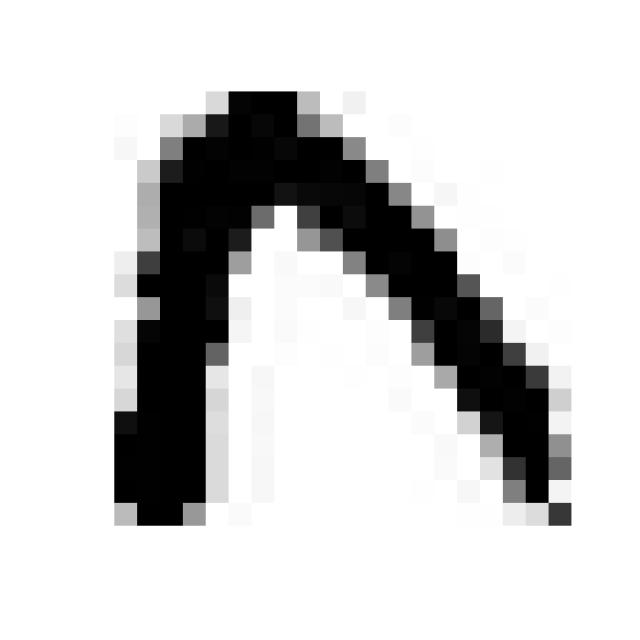8 -eight-: (82, 66, 595, 547)
